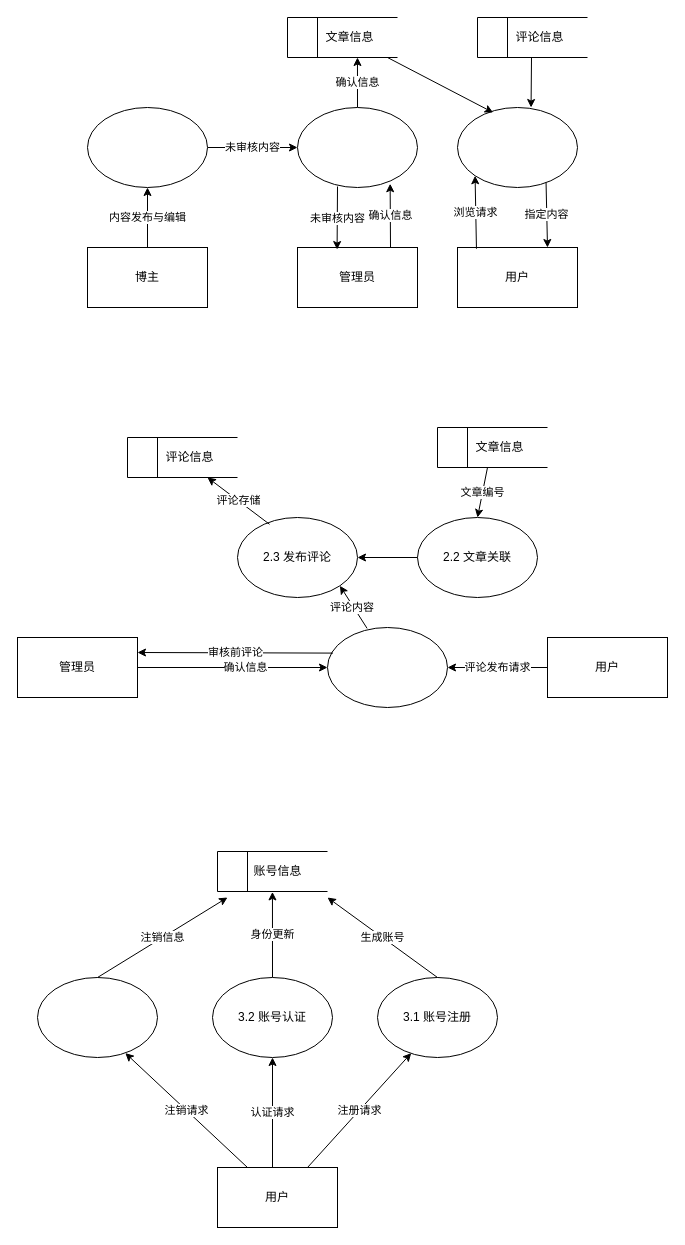
Image size: 685x1245. Some labels were removed from this diagram. Each missing label, with the centre of its shape:
"2.1 评论审核" goes at point (387, 667).
"3.3 账号注销" goes at point (97, 1017).
"文章发布及编辑" goes at point (147, 147).
"文章审核" goes at point (357, 147).
"文章浏览" goes at point (517, 147).
